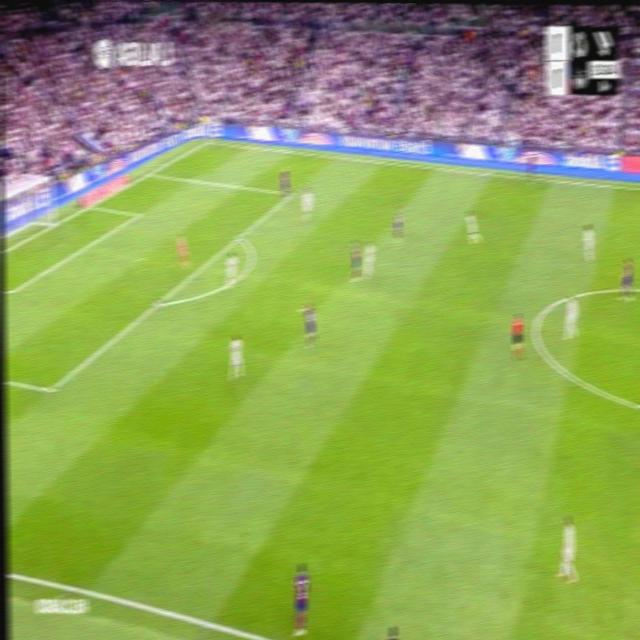bigarea_bottom_inner: (45, 377, 57, 401)
bigarea_top_inner: (287, 185, 296, 200)
bottom_arc_area_intersection: (153, 294, 164, 312)
corner: (203, 136, 213, 147)
smallarea_bottom_inner: (7, 283, 17, 301)
top_arc_area_intersection: (236, 230, 244, 242)
